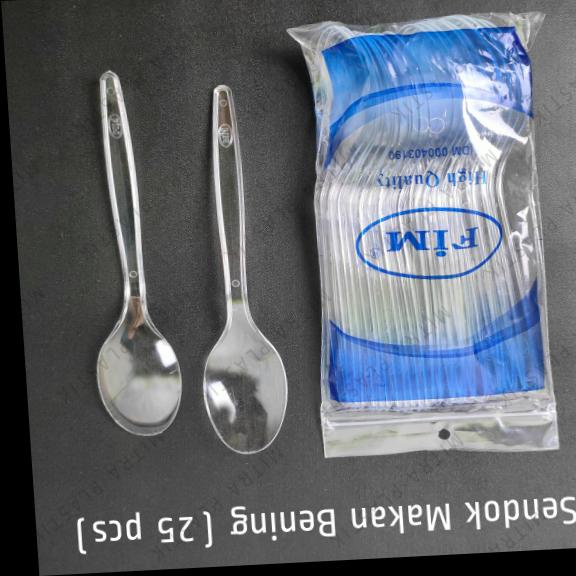Plastik: (96, 71, 180, 434), (203, 85, 286, 452)
